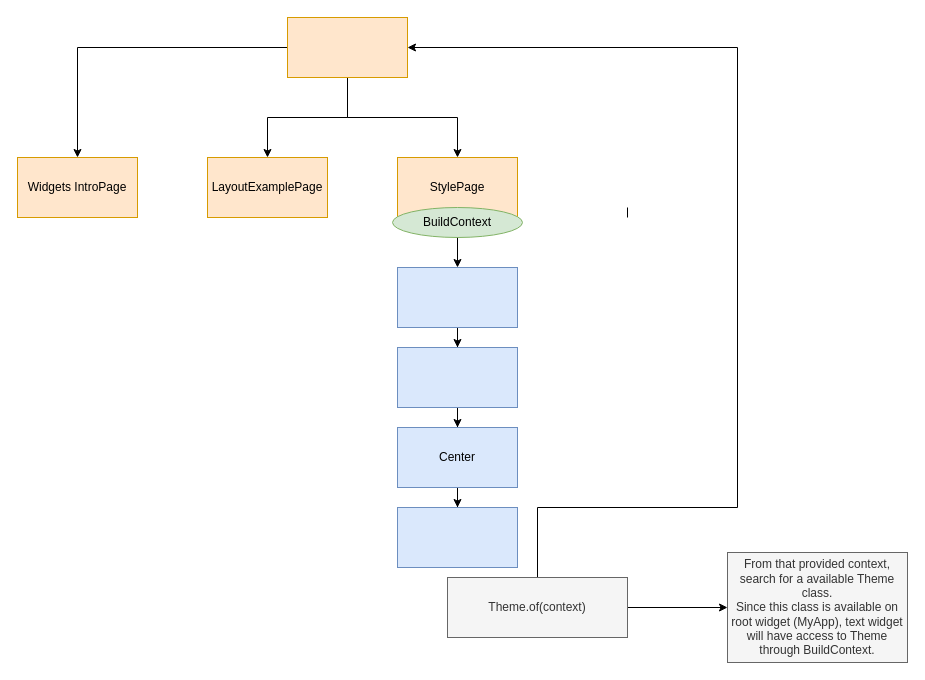
Image size: 925x680. Some labels were removed from this diagram. The box of each missing label's shape, as (x1, y1, x2, y2) in pixels:
AppBar: (396, 346, 518, 408)
MyApp: (286, 16, 408, 78)
Scaffold: (396, 266, 518, 328)
Text: (396, 506, 518, 568)
